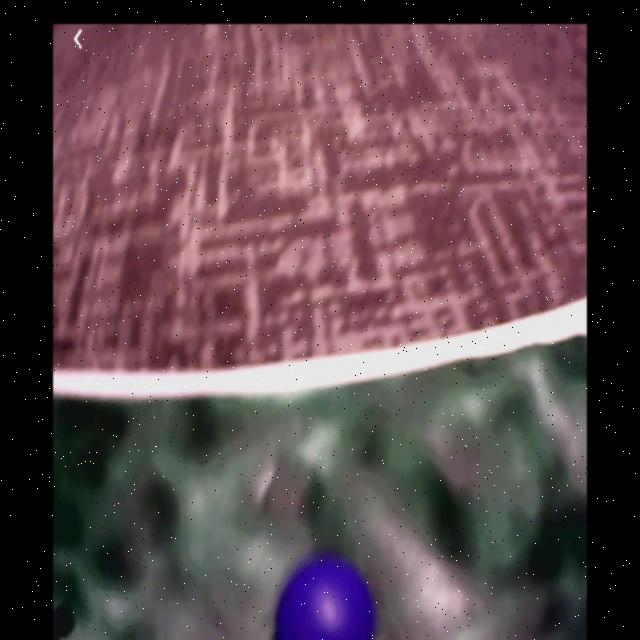ball: (274, 554, 379, 640)
